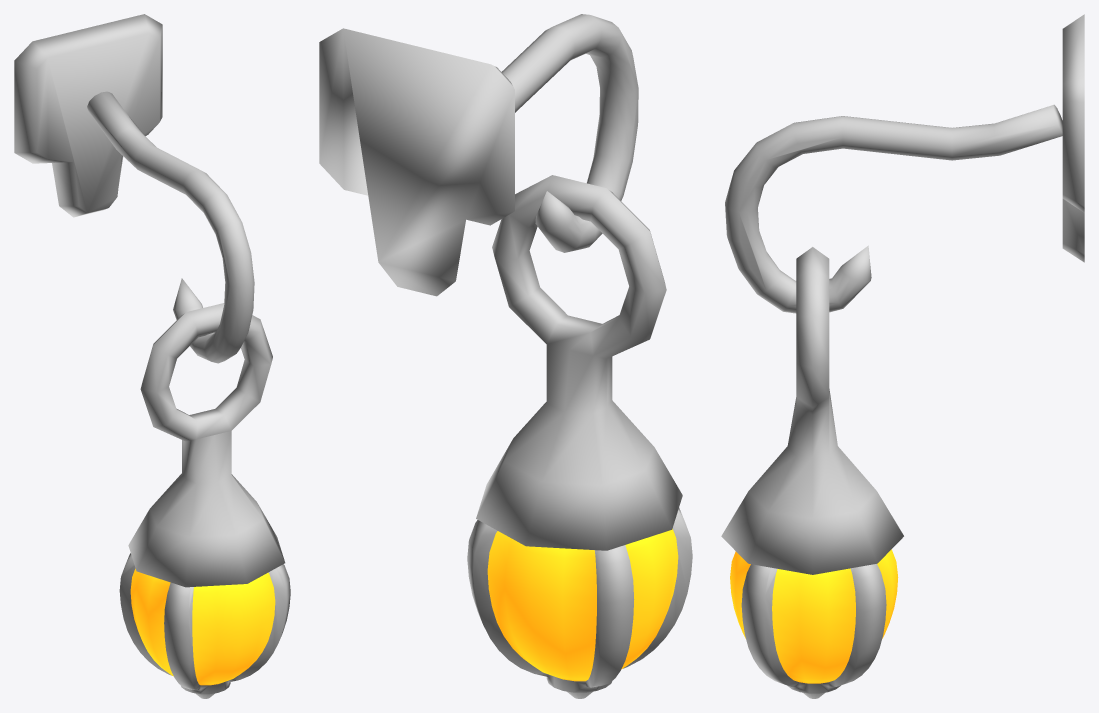
The model's file is WallLantern.fbx.
3 views of the same model, side by side, from view 1: azimuth 30°, elevation 25°; view 2: azimuth 150°, elevation 25°; view 3: azimuth 270°, elevation 25° (orthographic). The views are drawn at different scales.
Visible parts, largest first — view 1: Sphere.006; view 2: Sphere.006; view 3: Sphere.006.
Boxes of the visible parts, box(x1,y1,x2,y2) form: Sphere.006: box(14, 14, 290, 698); Sphere.006: box(319, 14, 692, 698); Sphere.006: box(721, 14, 1084, 698).
Bounding box in the file's own units: 23.27 × 86.81 × 43.76.
